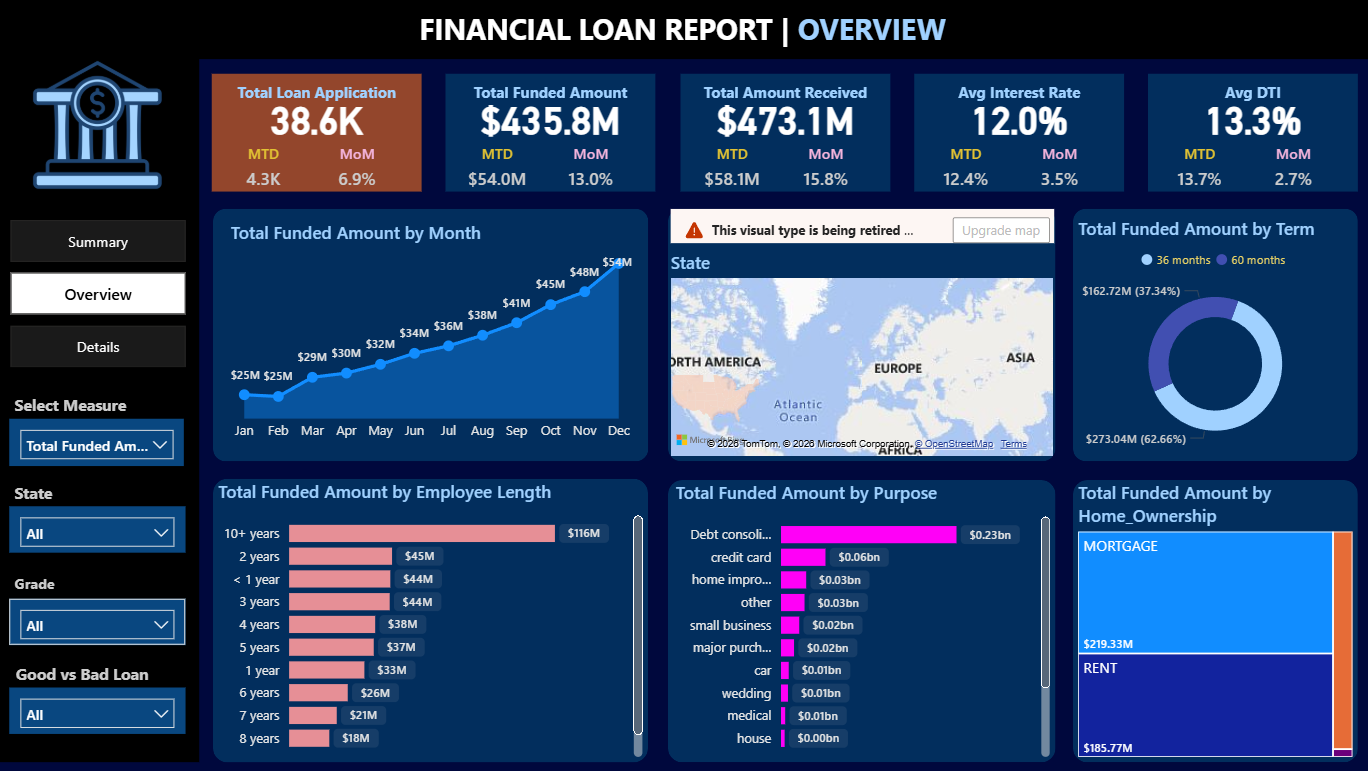

The dashboard page shown, as its layout file describes it:
{"tool":"powerbi","page":{"name":"Overview","canvas":[1280,720],"ordinal":1},"visuals":[{"type":"shape","box":[0,0,1280.3,55],"z":0},{"type":"shape","box":[0,44.2,191.9,665.1],"z":1000},{"type":"textbox","box":[387.2,3.5,508.1,48.8],"z":2000},{"type":"group","id":"g1","title":"Group 1","box":[203.3,68.6,195.3,117.4],"z":3000},{"type":"shape","box":[203.3,68.6,195.3,109.8],"z":3000,"group":"g1"},{"type":"shape","box":[420.8,68.6,195.3,109.8],"z":3000,"group":"g3"},{"type":"shape","box":[639.4,68.6,195.3,109.8],"z":3000,"group":"g2"},{"type":"shape","box":[856.8,68.6,195.3,109.8],"z":3000,"group":"g4"},{"type":"shape","box":[1074.3,68.6,195.3,109.8],"z":3000,"group":"g5"},{"type":"group","id":"g2","title":"Group 1","box":[639.4,68.6,195.3,117.4],"z":4000},{"type":"card","fields":{"Values":["financial_loan.Toatl Loan Applications"]},"box":[203.3,82.7,195.3,54.4],"z":4000,"group":"g1"},{"type":"card","fields":{"Values":["financial_loan.Total Funded Amount"]},"box":[420.8,82.7,195.3,54.4],"z":4000,"group":"g3"},{"type":"card","fields":{"Values":["financial_loan.Total Amount Received"]},"box":[639.4,82.7,195.3,54.4],"z":4000,"group":"g2"},{"type":"card","fields":{"Values":["financial_loan.Avg Interest Rate"]},"box":[856.8,82.7,195.3,54.4],"z":4000,"group":"g4"},{"type":"card","fields":{"Values":["financial_loan.Avg DTI"]},"box":[1074.3,82.7,195.3,54.4],"z":4000,"group":"g5"},{"type":"textbox","box":[203.3,70.8,195.3,29.4],"z":5000,"group":"g1"},{"type":"textbox","box":[420.8,70.8,195.3,29.4],"z":5000,"group":"g3"},{"type":"textbox","box":[639.4,70.8,195.3,29.4],"z":5000,"group":"g2"},{"type":"textbox","box":[856.8,70.8,195.3,29.4],"z":5000,"group":"g4"},{"type":"textbox","box":[1074.3,70.8,195.3,29.4],"z":5000,"group":"g5"},{"type":"shape","box":[204.7,194.2,405,235],"z":5000},{"type":"group","id":"g3","title":"Group 1","box":[420.8,68.6,195.3,117.4],"z":6000},{"type":"card","title":"MTD","fields":{"Values":["financial_loan.MTD Loan Application"]},"box":[213.8,133.8,75.6,52.2],"z":6000,"group":"g1"},{"type":"card","title":"MTD","fields":{"Values":["financial_loan.MTD Funded Amount"]},"box":[431.3,133.8,75.6,52.2],"z":6000,"group":"g3"},{"type":"card","title":"MTD","fields":{"Values":["financial_loan.MTD Total Amount Received"]},"box":[649.9,133.8,75.6,52.2],"z":6000,"group":"g2"},{"type":"card","title":"MTD","fields":{"Values":["financial_loan.MTD Avg Interest Rate"]},"box":[867.3,133.8,75.6,52.2],"z":6000,"group":"g4"},{"type":"card","title":"MTD","fields":{"Values":["financial_loan.MTD Avg DTI"]},"box":[1084.8,133.8,75.6,52.2],"z":6000,"group":"g5"},{"type":"group","id":"g4","title":"Group 1","box":[856.8,68.6,195.3,117.4],"z":7000},{"type":"card","title":"MoM","fields":{"Values":["financial_loan.Mom Loan Application"]},"box":[301,133.8,75.6,52.2],"z":7000,"group":"g1"},{"type":"card","title":"MoM","fields":{"Values":["financial_loan.Mom Total Funded Amount"]},"box":[518.5,133.8,75.6,52.2],"z":7000,"group":"g3"},{"type":"card","title":"MoM","fields":{"Values":["financial_loan.Mom Total Amount Received"]},"box":[737.1,133.8,75.6,52.2],"z":7000,"group":"g2"},{"type":"card","title":"MoM","fields":{"Values":["financial_loan.Mom Avg Ineterest Rate"]},"box":[954.5,133.8,75.6,52.2],"z":7000,"group":"g4"},{"type":"card","title":"MoM","fields":{"Values":["financial_loan.Mom Avg DTI"]},"box":[1172,133.8,75.6,52.2],"z":7000,"group":"g5"},{"type":"group","id":"g5","title":"Group 1","box":[1074.3,68.6,195.3,117.4],"z":8000},{"type":"slicer","fields":{"Values":["financial_loan.address_state"]},"box":[15.1,470.9,164,43],"z":9000},{"type":"textbox","box":[15.1,443,52.3,39.5],"z":10000},{"type":"slicer","fields":{"Values":["financial_loan.grade"]},"box":[15.1,557,164,43],"z":11000},{"type":"textbox","box":[15.1,529.1,52.3,39.5],"z":12000},{"type":"textbox","box":[16.3,611.6,145.3,39.5],"z":13000},{"type":"slicer","fields":{"Values":["financial_loan.Good vs Bad Loan"]},"box":[15.1,639.5,164,43],"z":14000},{"type":"areaChart","fields":{"Y":["financial_loan.Total Funded Amount"],"Category":["Date Table.Month"]},"box":[216.3,204.7,383.7,214],"z":15000},{"type":"slicer","fields":{"Values":["Select Measure.Select Measure"]},"box":[15.1,389.5,162.8,44.2],"z":16000},{"type":"textbox","box":[15.1,361.6,122.1,39.5],"z":17000},{"type":"shape","box":[627.9,194.2,360.5,234.9],"z":18000},{"type":"filledMap","fields":{"Category":["financial_loan.address_state"]},"box":[625.6,194.2,366.3,234.9],"z":19000},{"type":"shape","box":[1004.7,194.2,265.1,234.9],"z":20000},{"type":"donutChart","fields":{"Y":["financial_loan.Total Funded Amount"],"Category":["financial_loan.term"]},"box":[1004.7,201.2,265.1,225.6],"z":21000},{"type":"shape","box":[204.7,445.4,404.7,264],"z":22000},{"type":"barChart","fields":{"Y":["financial_loan.Total Funded Amount"],"Category":["financial_loan.emp_length"]},"box":[204.7,445.4,404.7,264],"z":23000},{"type":"shape","box":[627.9,446.5,360.5,262.8],"z":24000},{"type":"barChart","fields":{"Y":["financial_loan.Total Funded Amount"],"Category":["financial_loan.purpose"]},"box":[630.2,446.5,358.1,262.8],"z":25000},{"type":"shape","box":[1004.7,446.5,265.1,262.8],"z":26000},{"type":"treemap","fields":{"Values":["financial_loan.Total Funded Amount"],"Group":["financial_loan.home_ownership"]},"box":[1004.7,446.5,265.1,262.8],"z":27000},{"type":"pageNavigator","box":[16.3,204.7,164,139.5],"z":28000},{"type":"image","box":[15.1,54.7,164,123.3],"z":29000}]}

Visuals, with their boxes in screenshot pixels (x1, y1, x2, y2), scaled from the page's 1280x720 canvas onto the 1368x771 screenshot:
shape: <region>0, 0, 1367, 59</region>
shape: <region>0, 47, 205, 760</region>
textbox: <region>414, 4, 957, 56</region>
"Group 1" group: <region>217, 73, 426, 199</region>
shape: <region>217, 73, 426, 191</region>
shape: <region>450, 73, 658, 191</region>
shape: <region>683, 73, 892, 191</region>
shape: <region>916, 73, 1124, 191</region>
shape: <region>1148, 73, 1357, 191</region>
"Group 1" group: <region>683, 73, 892, 199</region>
card - financial_loan.Toatl Loan Applications: <region>217, 89, 426, 147</region>
card - financial_loan.Total Funded Amount: <region>450, 89, 658, 147</region>
card - financial_loan.Total Amount Received: <region>683, 89, 892, 147</region>
card - financial_loan.Avg Interest Rate: <region>916, 89, 1124, 147</region>
card - financial_loan.Avg DTI: <region>1148, 89, 1357, 147</region>
textbox: <region>217, 76, 426, 107</region>
textbox: <region>450, 76, 658, 107</region>
textbox: <region>683, 76, 892, 107</region>
textbox: <region>916, 76, 1124, 107</region>
textbox: <region>1148, 76, 1357, 107</region>
shape: <region>219, 208, 652, 460</region>
"Group 1" group: <region>450, 73, 658, 199</region>
"MTD" card: <region>228, 143, 309, 199</region>
"MTD" card: <region>461, 143, 542, 199</region>
"MTD" card: <region>695, 143, 775, 199</region>
"MTD" card: <region>927, 143, 1008, 199</region>
"MTD" card: <region>1159, 143, 1240, 199</region>
"Group 1" group: <region>916, 73, 1124, 199</region>
"MoM" card: <region>322, 143, 402, 199</region>
"MoM" card: <region>554, 143, 635, 199</region>
"MoM" card: <region>788, 143, 869, 199</region>
"MoM" card: <region>1020, 143, 1101, 199</region>
"MoM" card: <region>1253, 143, 1333, 199</region>
"Group 1" group: <region>1148, 73, 1357, 199</region>
slicer - financial_loan.address_state: <region>16, 504, 191, 550</region>
textbox: <region>16, 474, 72, 517</region>
slicer - financial_loan.grade: <region>16, 596, 191, 642</region>
textbox: <region>16, 567, 72, 609</region>
textbox: <region>17, 655, 173, 697</region>
slicer - financial_loan.Good vs Bad Loan: <region>16, 685, 191, 731</region>
areaChart - financial_loan.Total Funded Amount x Date Table.Month: <region>231, 219, 641, 448</region>
slicer - Select Measure.Select Measure: <region>16, 417, 190, 464</region>
textbox: <region>16, 387, 147, 430</region>
shape: <region>671, 208, 1056, 459</region>
filledMap - financial_loan.address_state: <region>669, 208, 1060, 459</region>
shape: <region>1074, 208, 1357, 459</region>
donutChart - financial_loan.Total Funded Amount x financial_loan.term: <region>1074, 215, 1357, 457</region>
shape: <region>219, 477, 651, 760</region>
barChart - financial_loan.Total Funded Amount x financial_loan.emp_length: <region>219, 477, 651, 760</region>
shape: <region>671, 478, 1056, 760</region>
barChart - financial_loan.Total Funded Amount x financial_loan.purpose: <region>674, 478, 1056, 760</region>
shape: <region>1074, 478, 1357, 760</region>
treemap - financial_loan.Total Funded Amount x financial_loan.home_ownership: <region>1074, 478, 1357, 760</region>
pageNavigator: <region>17, 219, 193, 369</region>
image: <region>16, 59, 191, 191</region>
